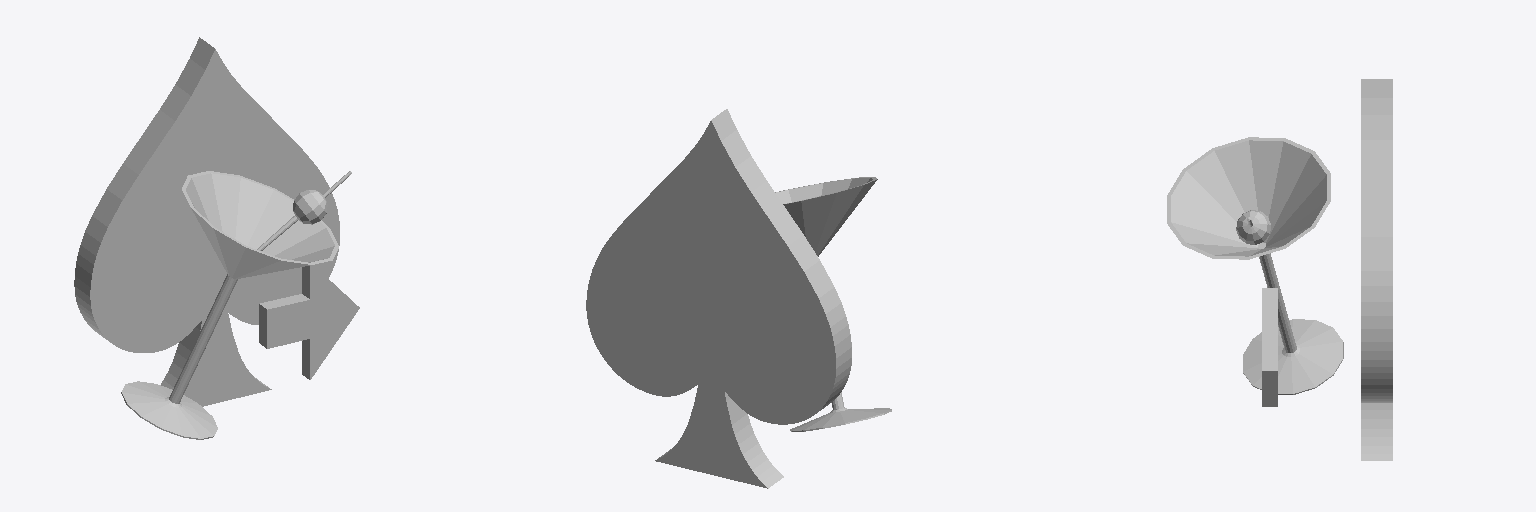
File: unicorn.obj
3 renders of one model, left to right at view 1: azimuth 30°, elevation 25°; view 2: azimuth 150°, elevation 25°; view 3: azimuth 270°, elevation 25°, orthographic.
Visible parts, largest first — view 1: unicorn, yellow, red; view 2: unicorn, yellow; view 3: yellow, unicorn, red.
Part boxes in pixels (left/top/right/bottom): unicorn: left=74, top=37, right=339, bottom=406; yellow: left=121, top=171, right=338, bottom=439; red: left=257, top=171, right=359, bottom=379; unicorn: left=586, top=109, right=851, bottom=488; yellow: left=775, top=177, right=891, bottom=431; yellow: left=1167, top=137, right=1343, bottom=394; unicorn: left=1361, top=79, right=1392, bottom=460; red: left=1236, top=210, right=1277, bottom=406.
Size of the model in its own units: 176 by 239 by 138.